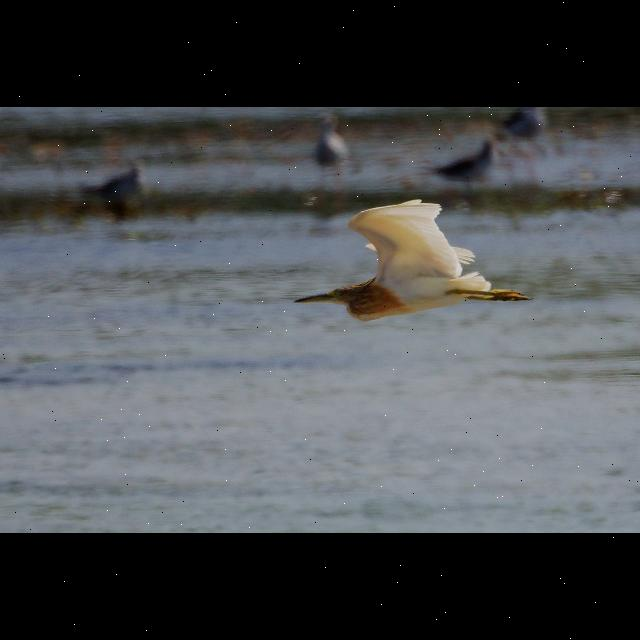heron: (292, 201, 540, 319)
